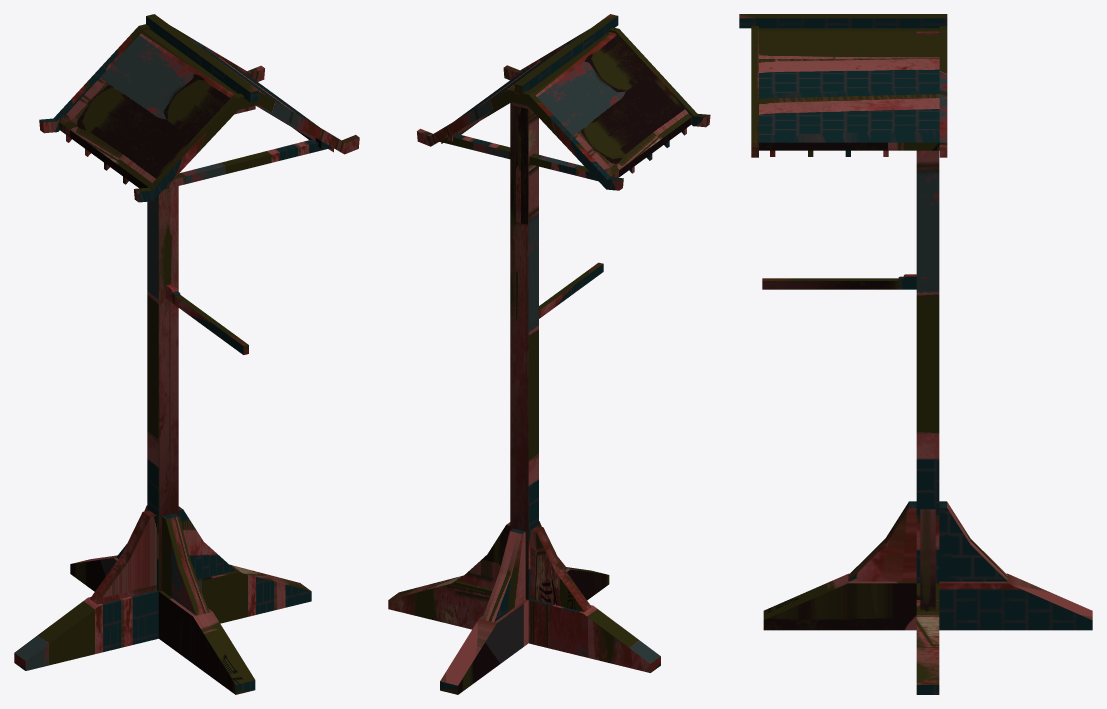
Rendered from POSTE COM LAMPAD.fbx.
3 views of the same model, side by side, from view 1: azimuth 30°, elevation 25°; view 2: azimuth 150°, elevation 25°; view 3: azimuth 270°, elevation 25° (orthographic). The views are drawn at different scales.
Visible parts, largest first — view 1: Poste Grande_LOD0; view 2: Poste Grande_LOD0; view 3: Poste Grande_LOD0.
Part boxes in pixels (<box>): Poste Grande_LOD0: <box>14,14,359,694</box>; Poste Grande_LOD0: <box>388,14,710,694</box>; Poste Grande_LOD0: <box>739,14,1092,694</box>.
Size of what is drawn, in the model's own units: 122 by 248 by 131.
